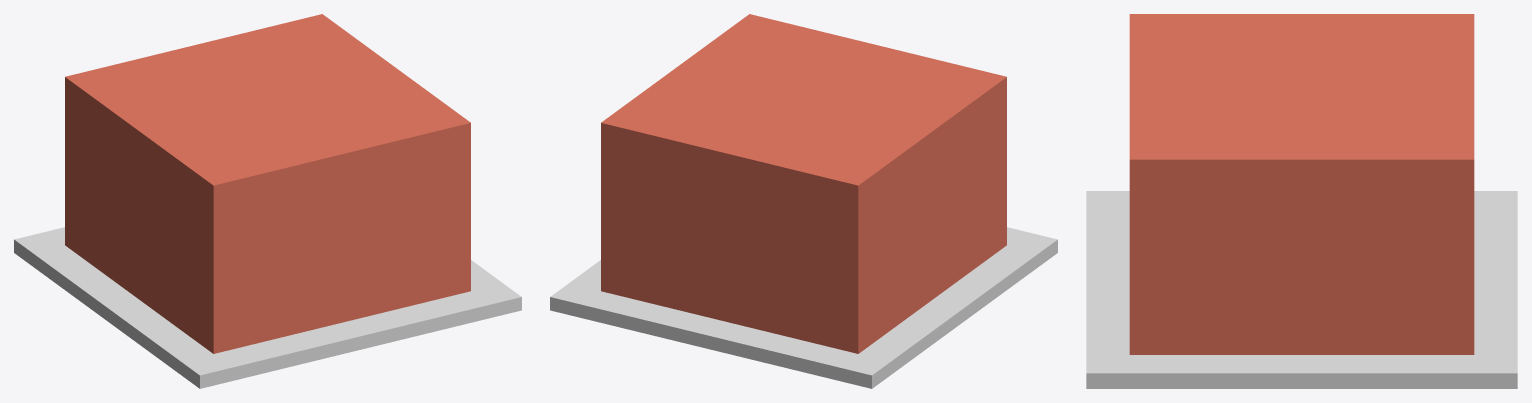
The model's file is bowling.glb.
The picture shows the model from 3 angles, left to right: view 1: azimuth 30°, elevation 25°; view 2: azimuth 150°, elevation 25°; view 3: azimuth 270°, elevation 25°; orthographic projection. The views are drawn at different scales.
Parts seen in each view (by area): view 1: Cube, Cube.001; view 2: Cube, Cube.001; view 3: Cube, Cube.001.
Boxes of the visible parts, x1=… form: Cube: x1=65, y1=14, x2=470, y2=353; Cube.001: x1=14, y1=227, x2=521, y2=388; Cube: x1=601, y1=14, x2=1006, y2=353; Cube.001: x1=550, y1=227, x2=1057, y2=388; Cube: x1=1129, y1=14, x2=1474, y2=354; Cube.001: x1=1086, y1=191, x2=1517, y2=388.
Bounding box in the file's own units: 1 × 0.54 × 1.
